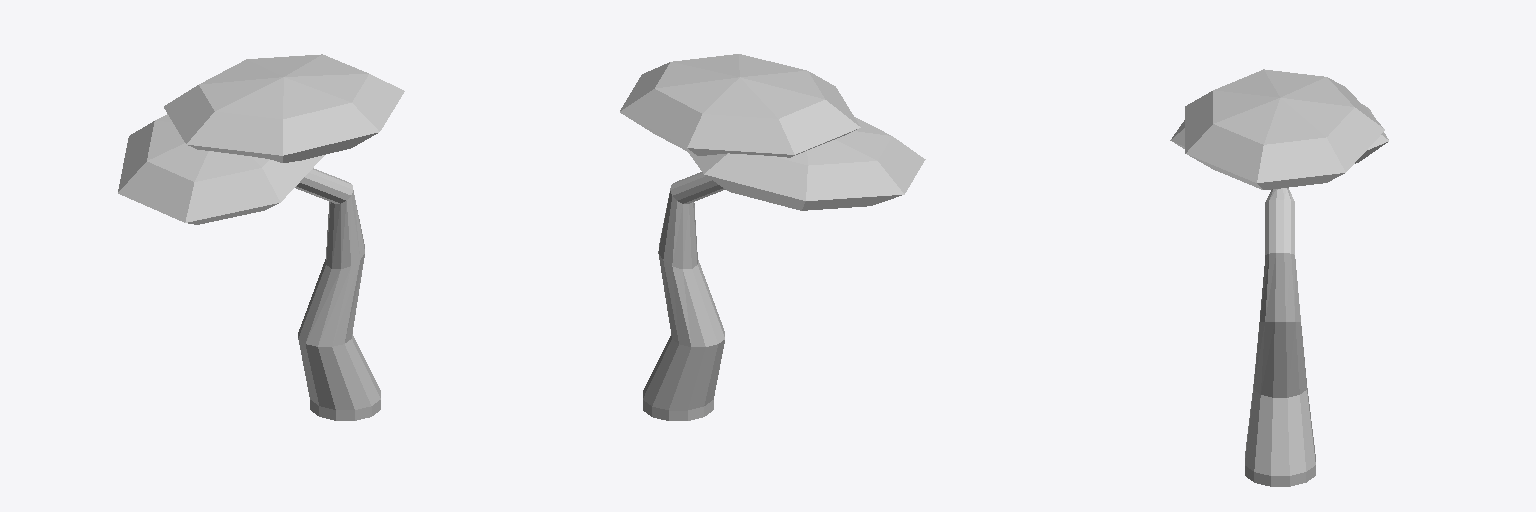
Rendered from tree1.obj.
3 renders of one model, left to right at view 1: azimuth 30°, elevation 25°; view 2: azimuth 150°, elevation 25°; view 3: azimuth 270°, elevation 25°, orthographic.
Parts seen in each view (by area): view 1: sphere, cylinder; view 2: sphere, cylinder; view 3: sphere, cylinder.
Boxes of the visible parts, x1,y1,x2,y2 form: sphere: [118, 54, 404, 224]; cylinder: [295, 168, 380, 420]; sphere: [620, 54, 925, 210]; cylinder: [643, 172, 725, 420]; sphere: [1170, 69, 1388, 189]; cylinder: [1245, 188, 1315, 486].
Bounding box in the file's own units: 1.67 × 2 × 1.16.